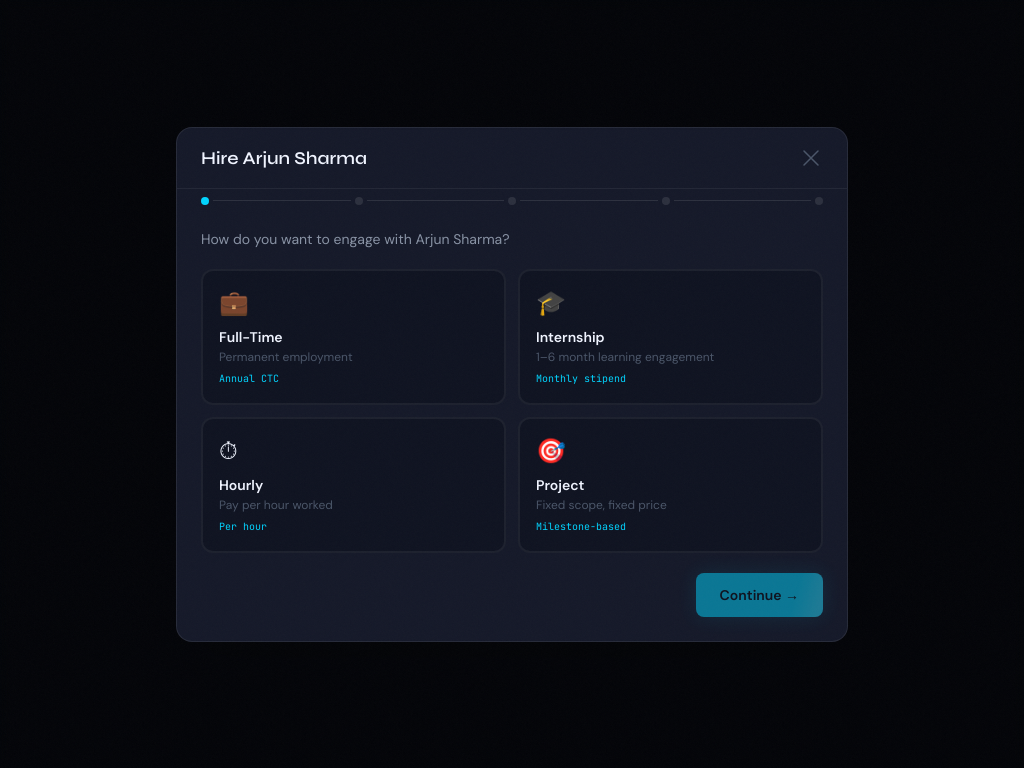
Test: HireModal — digital signing flow › renders signing step with two panels
This screenshot has width=1024, height=768.
Step 1. Click the radio button labelled "💼 Full-Time Permanent employment Annual CTC" → (251, 336), box left=201, top=268, right=506, bottom=404
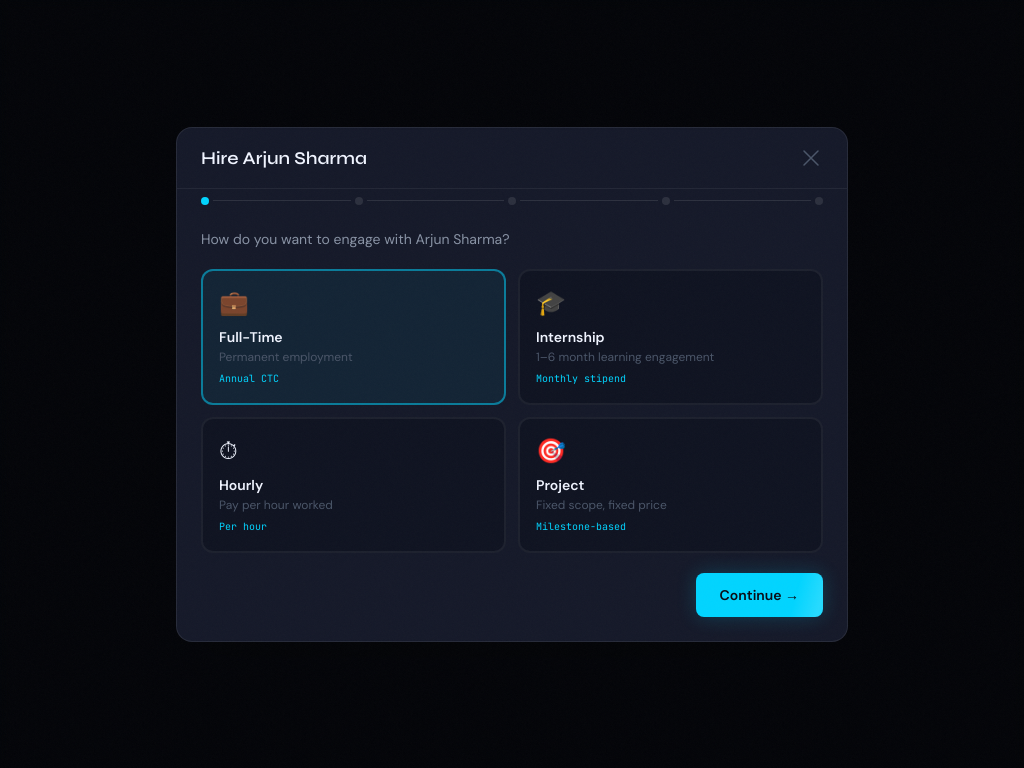
Step 2. Click the button "Continue →" → (759, 594), box left=696, top=572, right=823, bottom=616
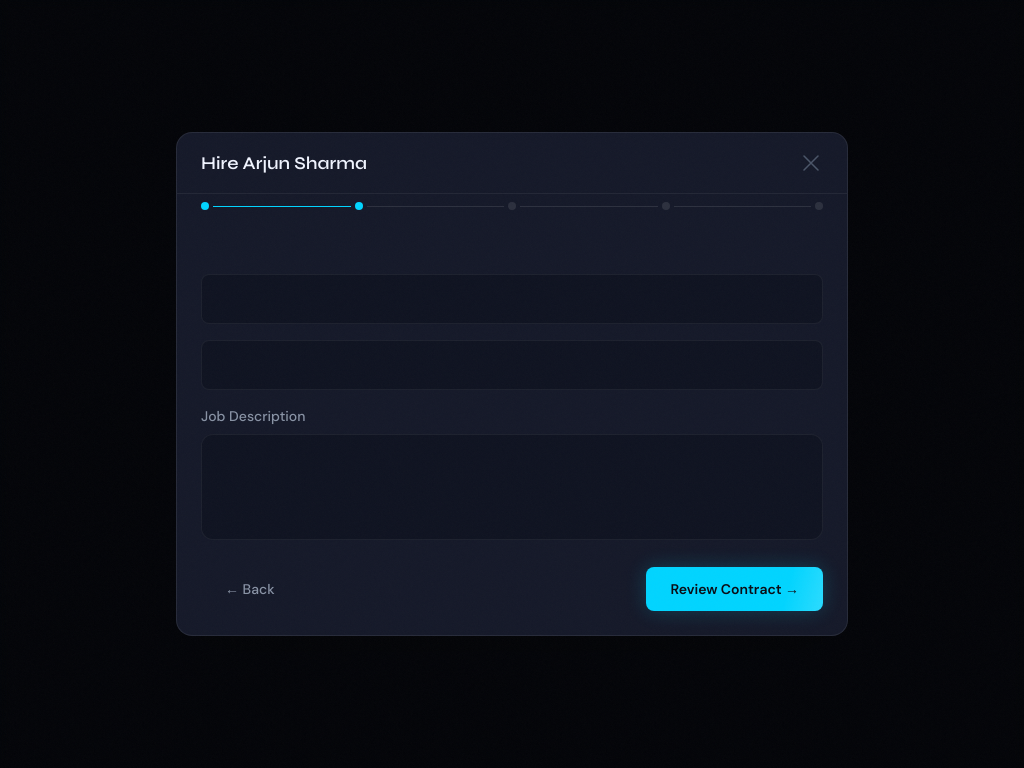
Step 3. Click the button "Review Contract →" → (735, 589), box left=646, top=567, right=823, bottom=611
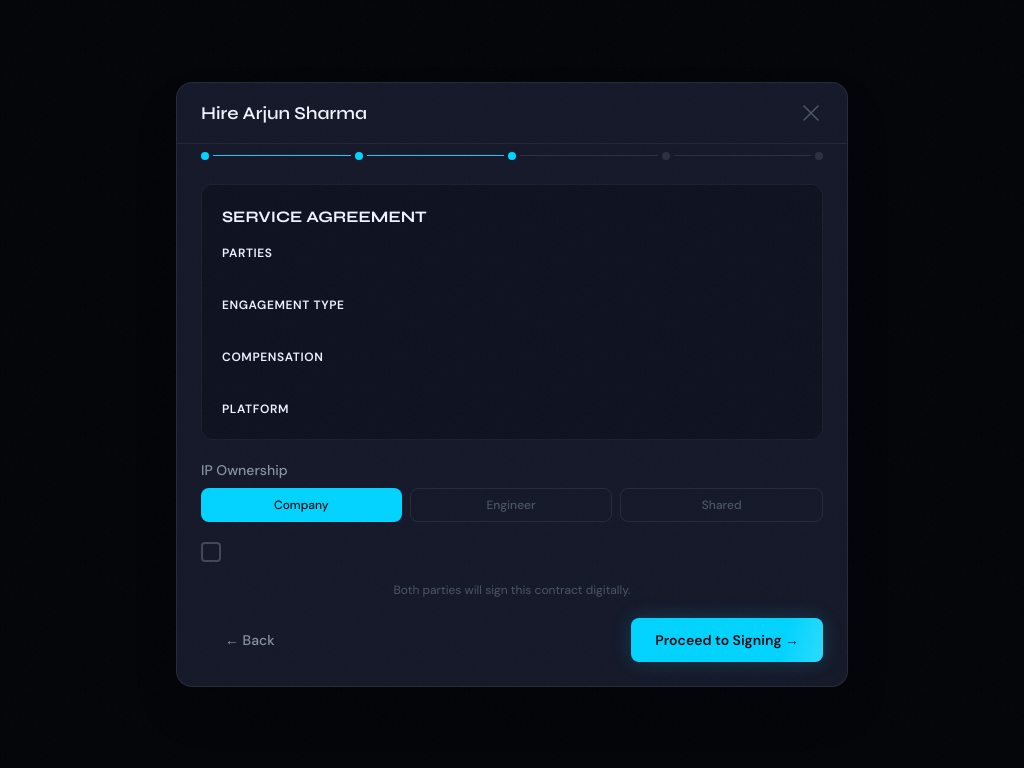
Step 4. Click the button "Proceed to Signing →" → (727, 640), box left=631, top=618, right=823, bottom=662
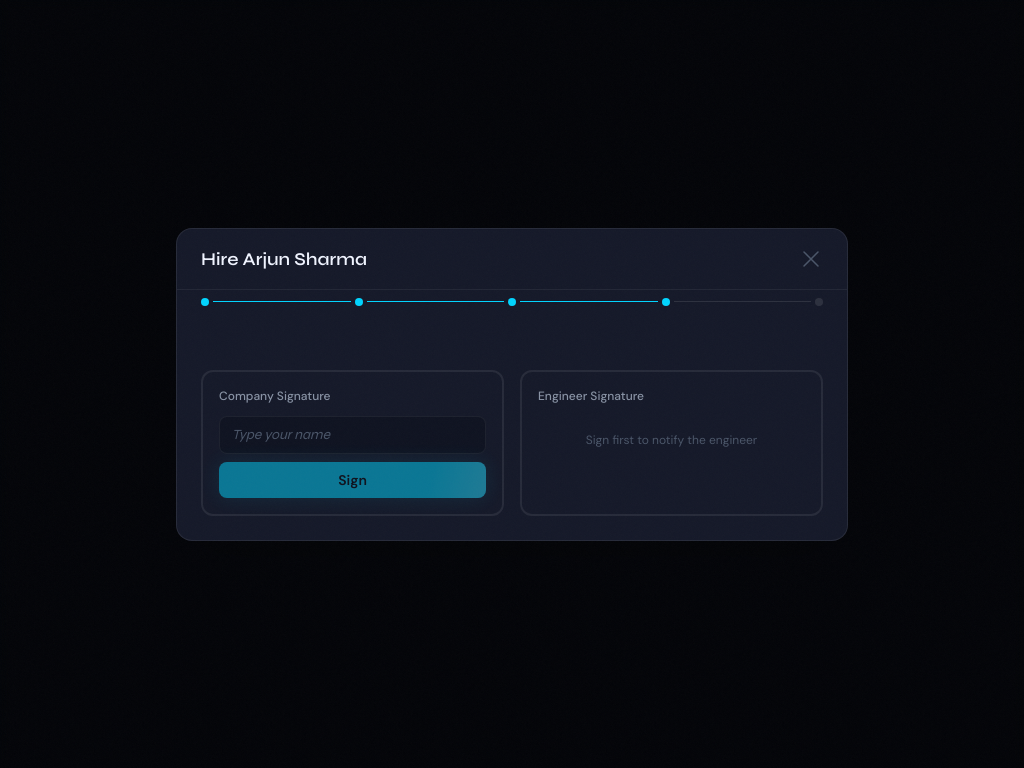
Expected: the text "Company Signature" is shown, left=219, top=388, right=331, bottom=404
Expected: the text "Engineer Signature" is shown, left=538, top=388, right=644, bottom=404
